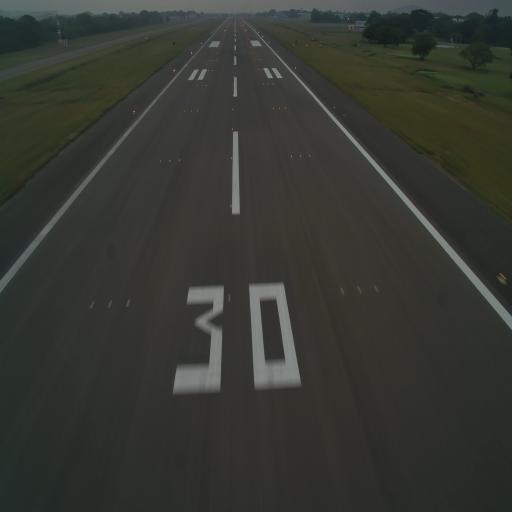off: (331, 104, 336, 111)
on: (498, 268, 510, 288), (227, 292, 232, 304), (229, 155, 235, 163), (228, 201, 233, 210), (168, 156, 172, 164), (298, 152, 302, 160), (158, 158, 163, 164), (290, 153, 294, 160), (308, 153, 312, 160), (133, 108, 136, 116), (177, 158, 181, 163), (231, 126, 234, 132)
